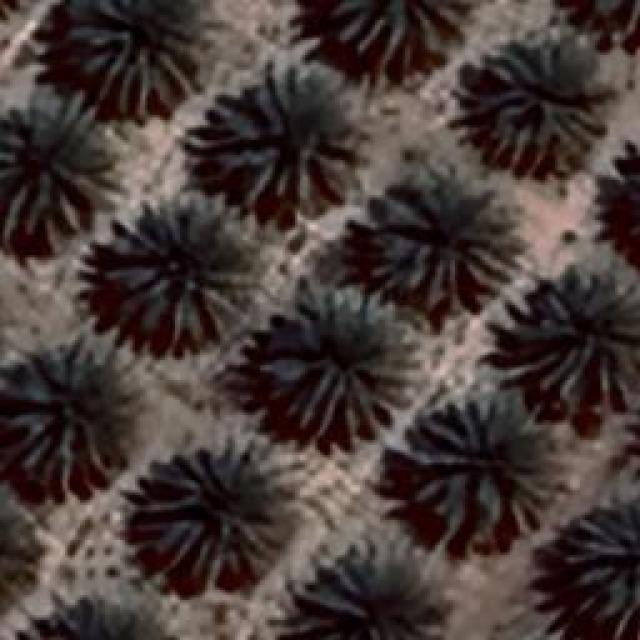PalmTree: (143, 40, 362, 595), (93, 80, 143, 620), (255, 284, 415, 448), (395, 390, 563, 542), (100, 192, 258, 350), (195, 68, 363, 210), (130, 440, 282, 582), (362, 165, 516, 305), (0, 345, 132, 492), (510, 265, 638, 413), (470, 37, 600, 175), (0, 92, 112, 239), (70, 0, 200, 118), (560, 490, 638, 628), (327, 0, 470, 72), (0, 488, 36, 612), (614, 128, 640, 264), (569, 0, 640, 38), (629, 130, 640, 260)
